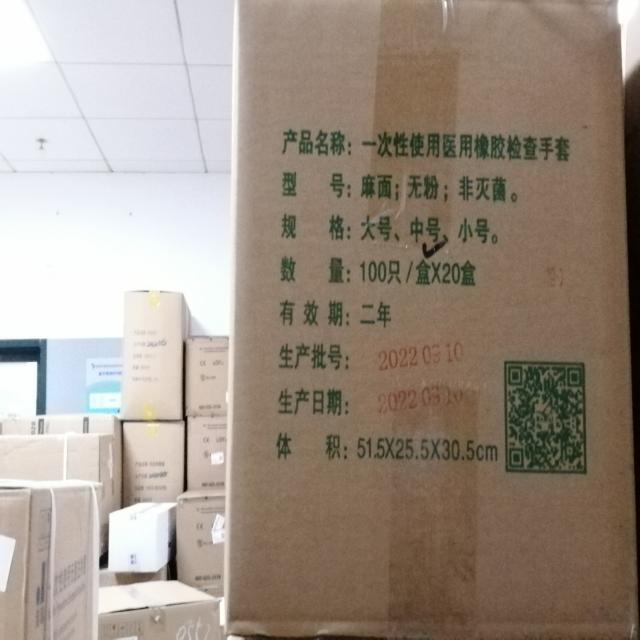box: (227, 1, 640, 640), (0, 487, 101, 640), (0, 434, 114, 552), (0, 414, 121, 510), (98, 579, 226, 640), (124, 289, 180, 421), (173, 489, 226, 604), (125, 426, 186, 512), (108, 499, 172, 570), (184, 338, 233, 413), (185, 411, 228, 491)
